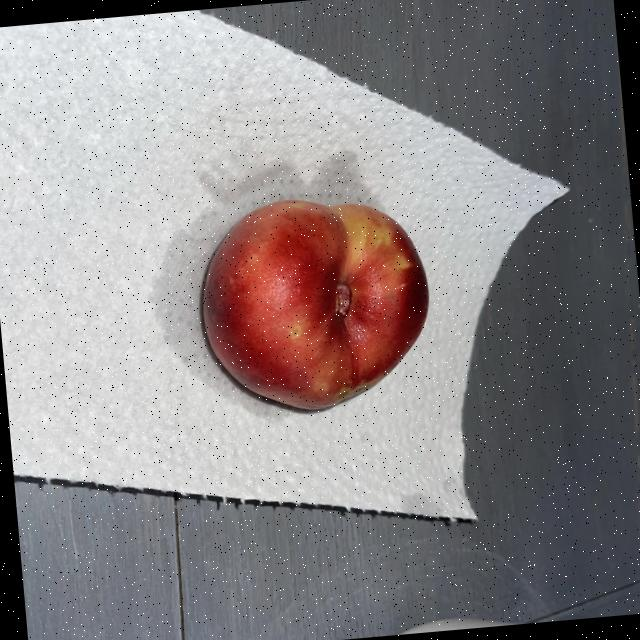peach: (206, 197, 422, 402)
